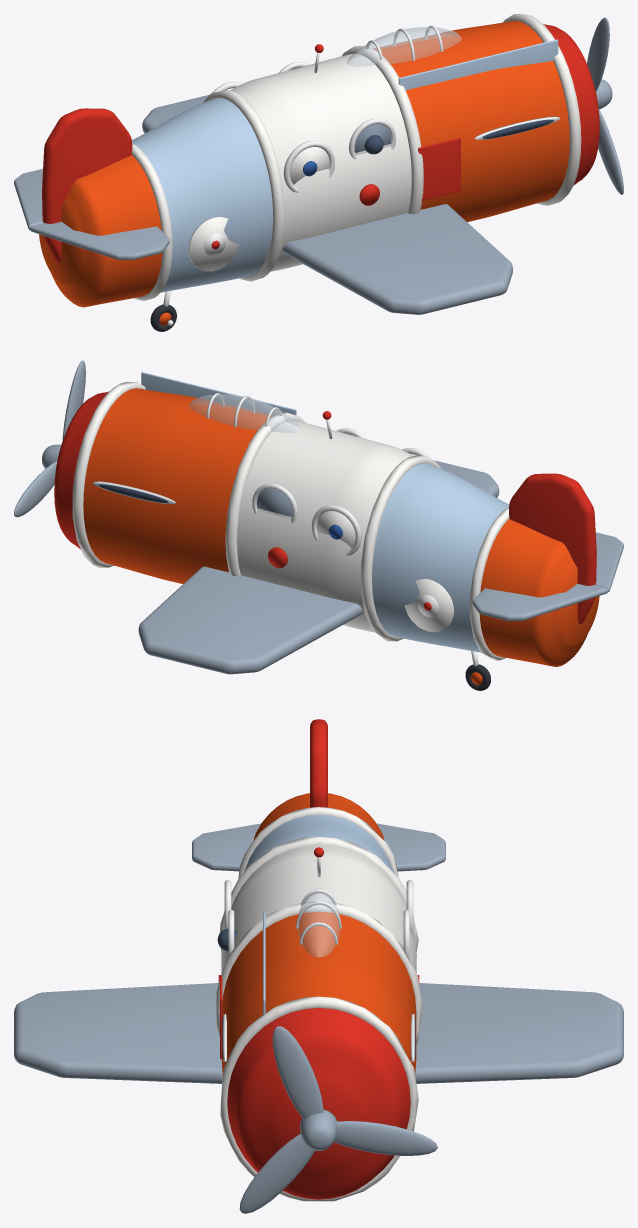
The model's file is zephyr.glb.
3 views of the same model, one above another, from view 1: azimuth 30°, elevation 25°; view 2: azimuth 150°, elevation 25°; view 3: azimuth 270°, elevation 25° (orthographic). The views are drawn at different scales.
Parts seen in each view (by area): view 1: body 3, body 2, body 1, wing.002, body 0, fin, wing, body 4, Torus.001, panel 2, canopy, Torus.003 (+15 smaller); view 2: body 3, body 2, body 1, wing.003, body 0, fin, body 4, wing.001, Torus.001, Torus.003, canopy, Torus.002 (+13 smaller); view 3: body 4, wing.003, wing.002, body 3, body 2, Torus.003, Torus.002, body 1, blade, blade.002, blade.001, wing.001 (+7 smaller).
Part boxes in pixels (x1,y1,x2,y2): body 3: (374,20,569,222); body 2: (230,54,411,271); body 1: (132,98,272,292); wing.002: (282,204,512,314); body 0: (39,155,162,307); fin: (42,108,132,263); wing: (30,221,169,259); body 4: (543,24,599,185); Torus.001: (203,90,284,281); panel 2: (398,39,558,89); canopy: (347,27,461,66); Torus.003: (503,14,581,205); body 3: (83,388,274,583); body 2: (237,420,413,632); body 1: (372,463,509,652); wing.003: (138,566,362,674); body 0: (479,518,599,666); fin: (509,473,596,624); body 4: (54,391,108,549); wing.001: (472,583,608,620); Torus.001: (361,455,440,641); Torus.003: (72,381,145,567); canopy: (188,394,299,432); Torus.002: (225,412,305,576); body 4: (227,1008,410,1199); wing.003: (415,983,623,1083); wing.002: (14,983,222,1083); body 3: (221,911,416,1075); body 2: (221,845,416,974); Torus.003: (220,996,418,1201); Torus.002: (216,902,422,1044); body 1: (244,815,394,873); blade: (272,1026,323,1119); blade.002: (334,1121,437,1155); blade.001: (239,1133,314,1213); wing.001: (376,823,445,871).
Size of the model in its own units: 5.97 by 2.52 by 4.8.
